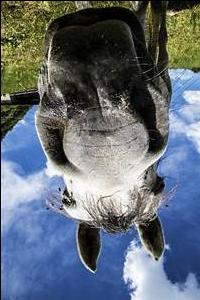horse: (3, 1, 180, 264)
